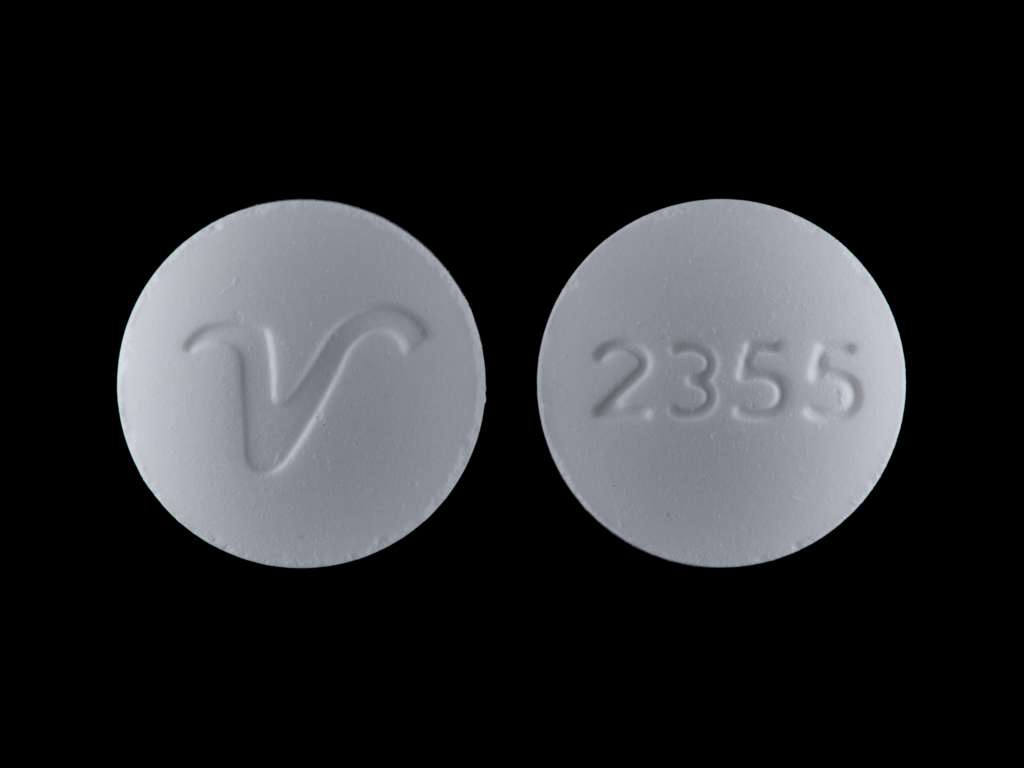Acetaminophen 325 MG Oral Tablet: (518, 178, 931, 602), (106, 186, 502, 581)
